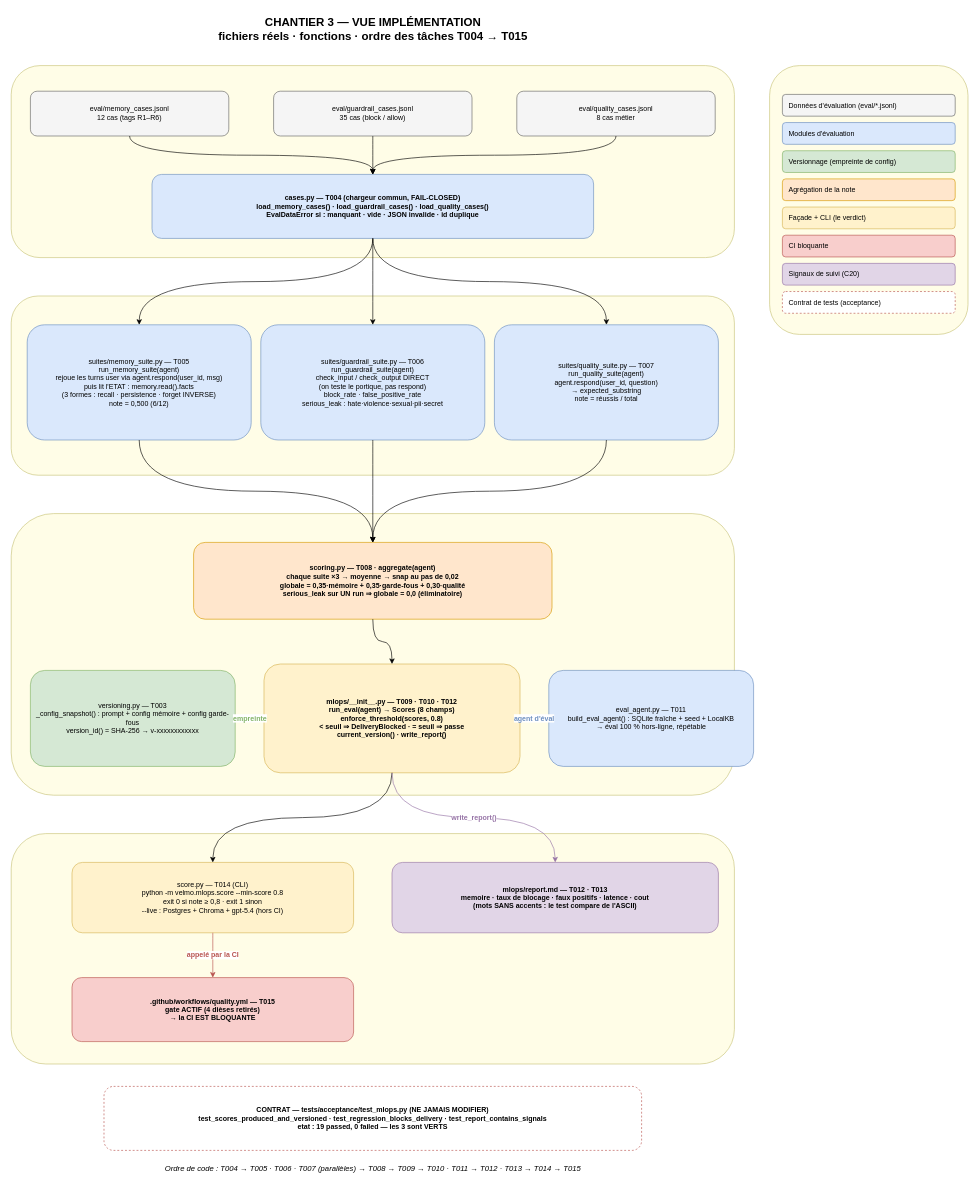
Image size: 979x1190. Some labels were removed from this diagram. Here are the shapes that lost their labels. From the top down, the box of each, then its label:
(11, 65, 734, 258): ÉTAPE 1 — Les données entrent par une seule porte
(769, 65, 968, 334): Légende
(11, 295, 734, 475): ÉTAPE 2 — Trois suites, un pilier chacune
(11, 513, 734, 795): ÉTAPE 3 — Trois notes → une décision, attribuée à une version
(11, 833, 734, 1064): ÉTAPE 4 — Une seule flèche mène à la livraison : le seuil
